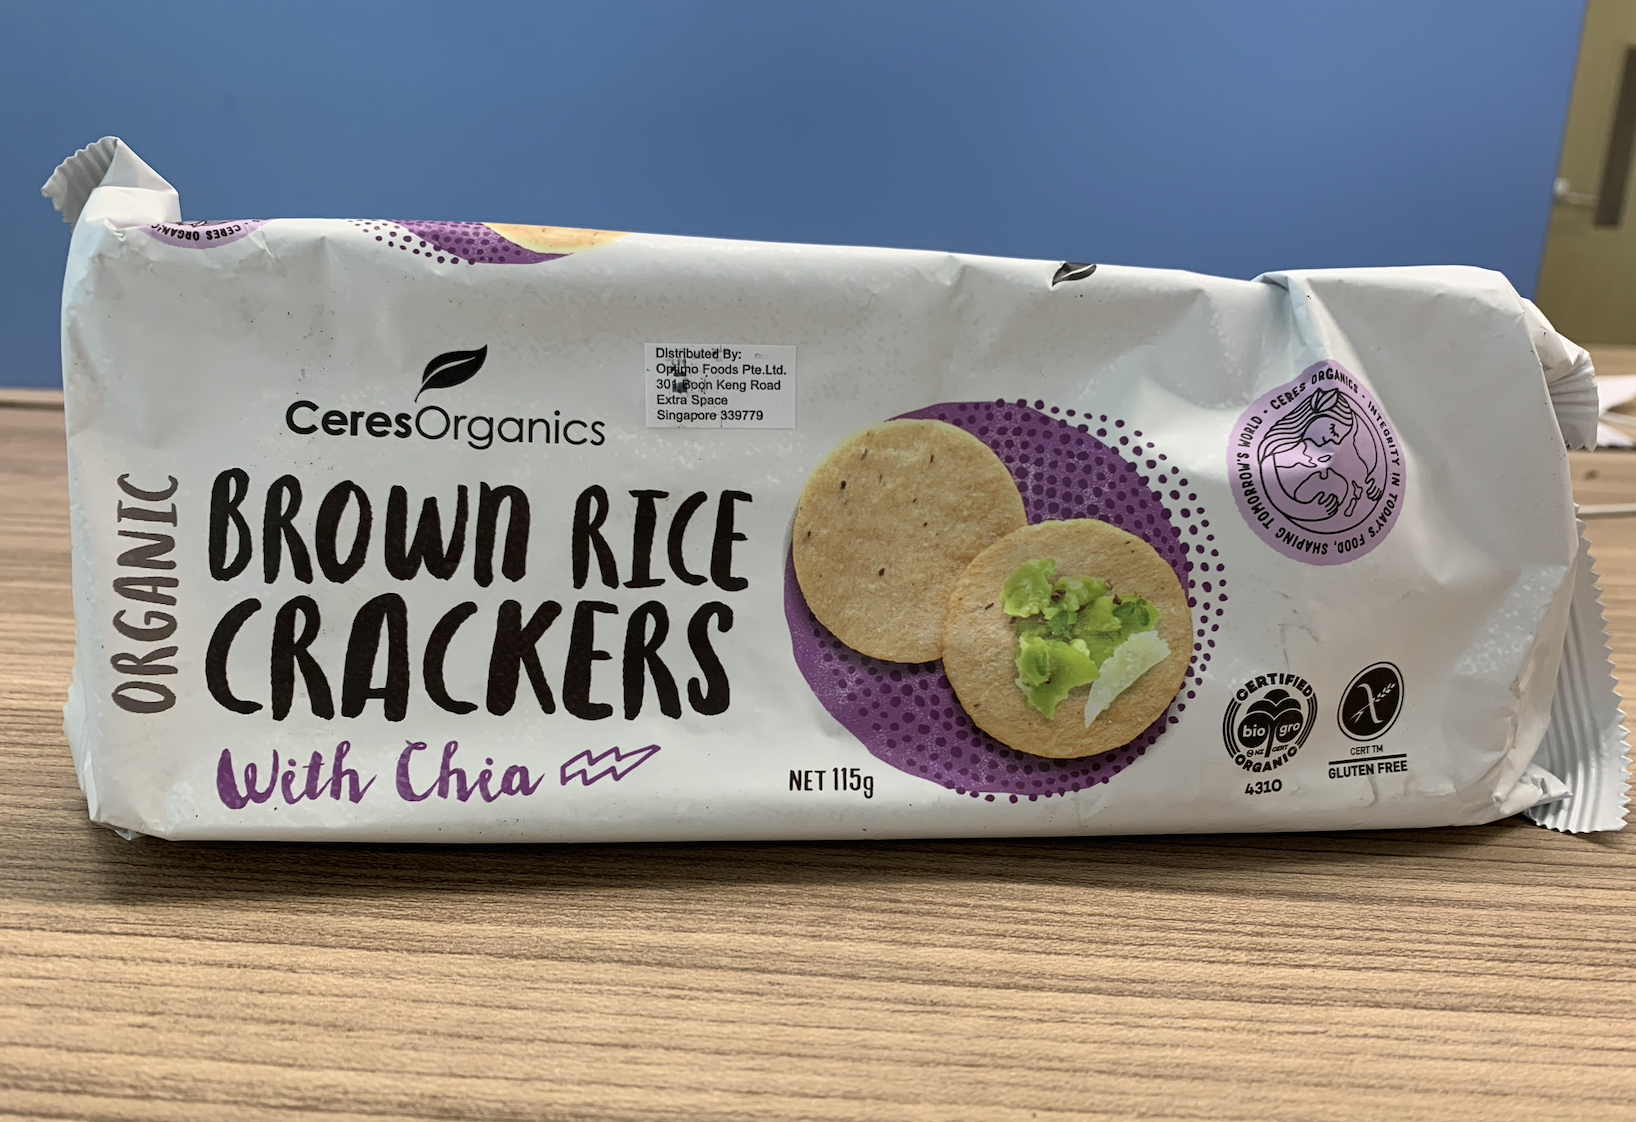crackers_100g-199g: (93, 261, 1532, 805)
